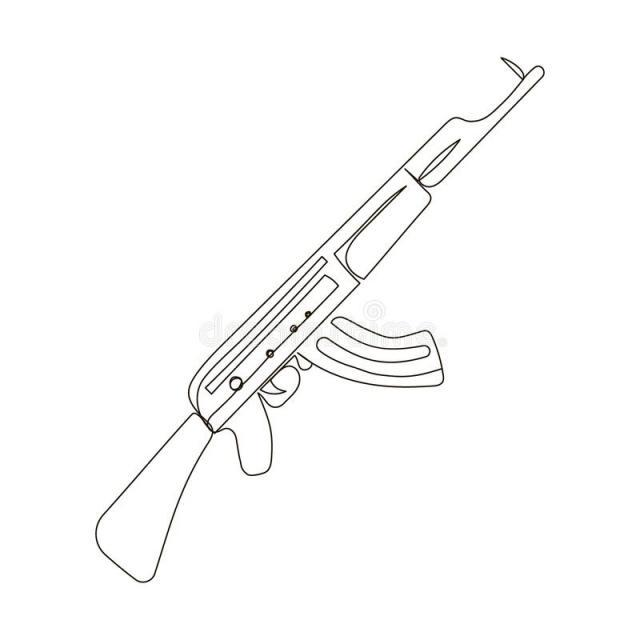rifle: (91, 49, 550, 587)
